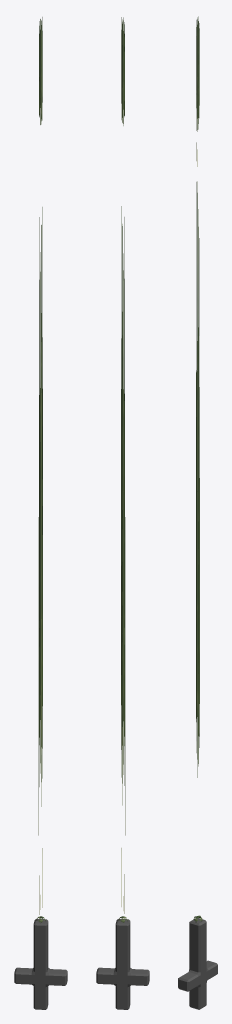
File: Anitchrist.fbx
The picture shows the model from 3 angles, left to right: view 1: azimuth 30°, elevation 25°; view 2: azimuth 210°, elevation 25°; view 3: azimuth 270°, elevation 25°; orthographic projection.
Visible parts, largest first — view 1: Antichrist; view 2: Antichrist; view 3: Antichrist.
Boxes of the visible parts, <box> form: Antichrist: <box>14,17,67,1009</box>; Antichrist: <box>96,17,149,1009</box>; Antichrist: <box>178,16,217,1009</box>.
Bounding box in the file's own units: 70.28 × 1572 × 57.28.
